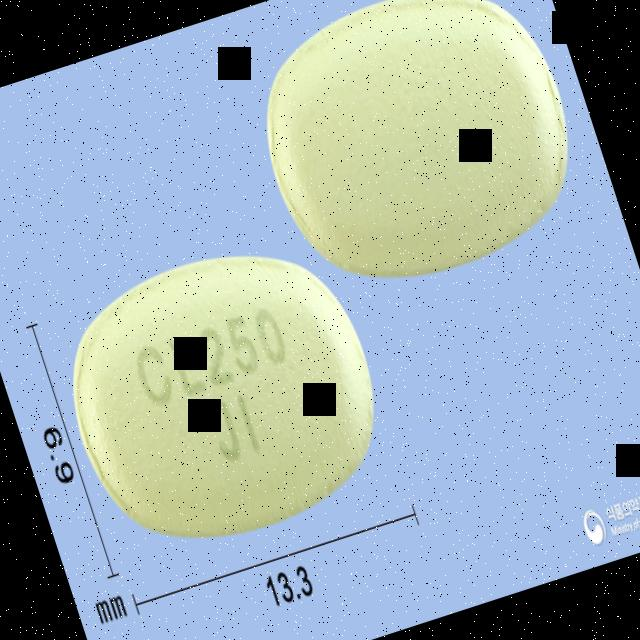Jecli - 500mg: (39, 218, 408, 576)
